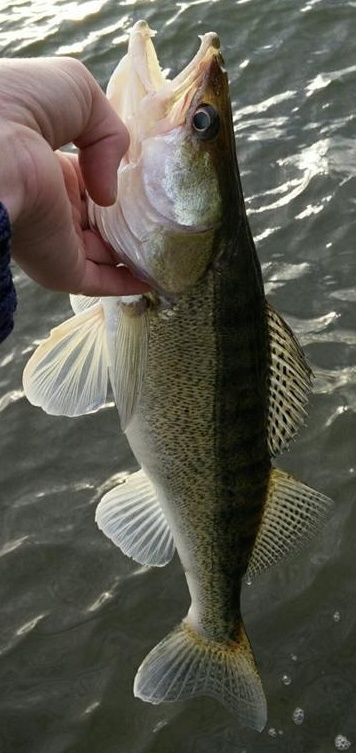Sander lucioperca: (20, 20, 336, 733)
